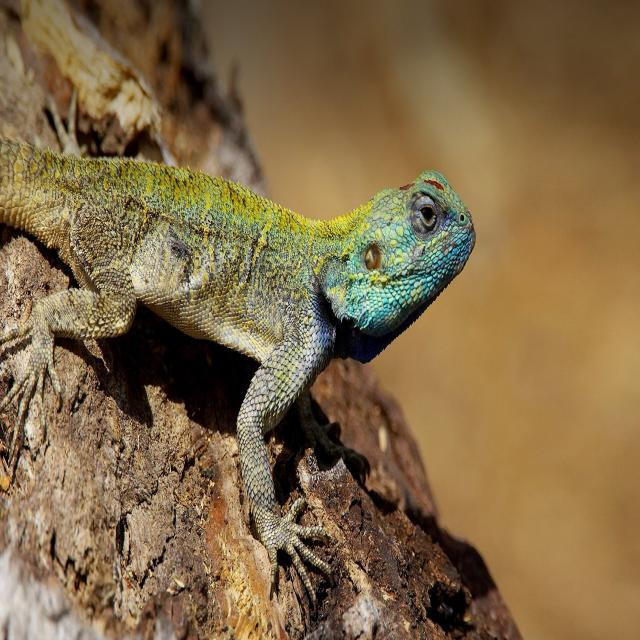Lizard: (0, 128, 481, 567)
